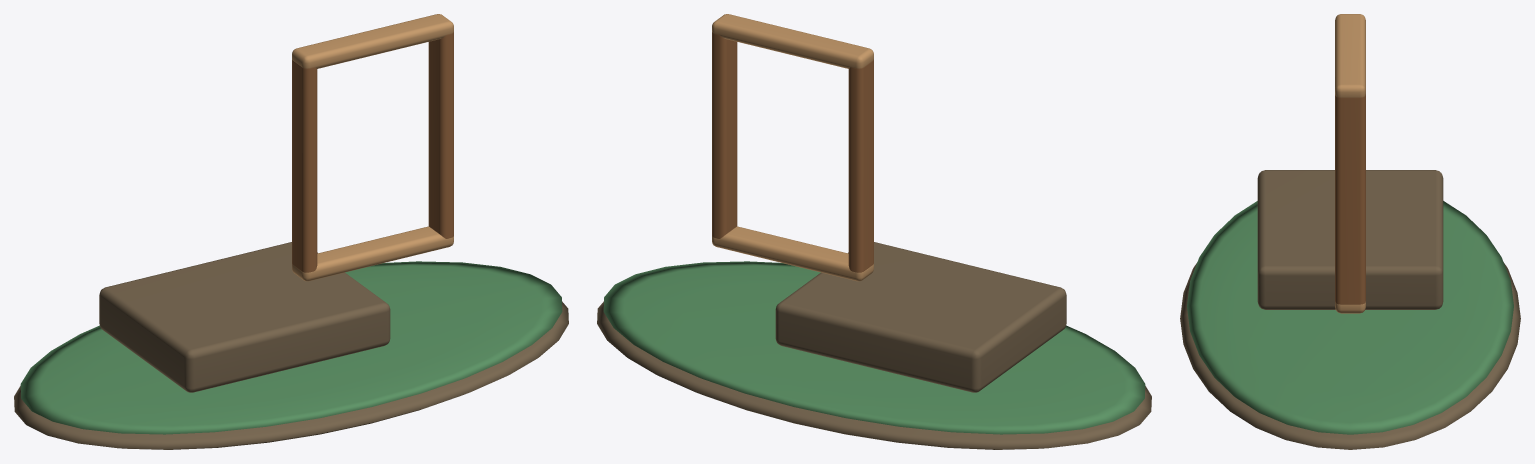
The model's file is square-place.glb.
3 renders of one model, left to right at view 1: azimuth 30°, elevation 25°; view 2: azimuth 150°, elevation 25°; view 3: azimuth 270°, elevation 25°, orthographic.
Visible parts, largest first — view 1: square-place_surface_01, square-place_surface_00, square-place_surface_02, square-place_surface_03; view 2: square-place_surface_01, square-place_surface_00, square-place_surface_02, square-place_surface_03; view 3: square-place_surface_01, square-place_surface_00, square-place_surface_02, square-place_surface_03.
Part boxes in pixels (x1,y1,x2,y2): square-place_surface_01: (20, 261, 562, 434); square-place_surface_00: (14, 242, 568, 449); square-place_surface_02: (292, 32, 453, 272); square-place_surface_03: (292, 14, 453, 281); square-place_surface_01: (603, 261, 1145, 434); square-place_surface_00: (597, 242, 1151, 449); square-place_surface_02: (712, 32, 873, 272); square-place_surface_03: (712, 14, 873, 281); square-place_surface_01: (1187, 201, 1513, 434); square-place_surface_00: (1180, 170, 1520, 449); square-place_surface_02: (1335, 94, 1365, 304); square-place_surface_03: (1335, 14, 1365, 313).
Bounding box in the file's own units: 4.56 × 2.64 × 2.5.
